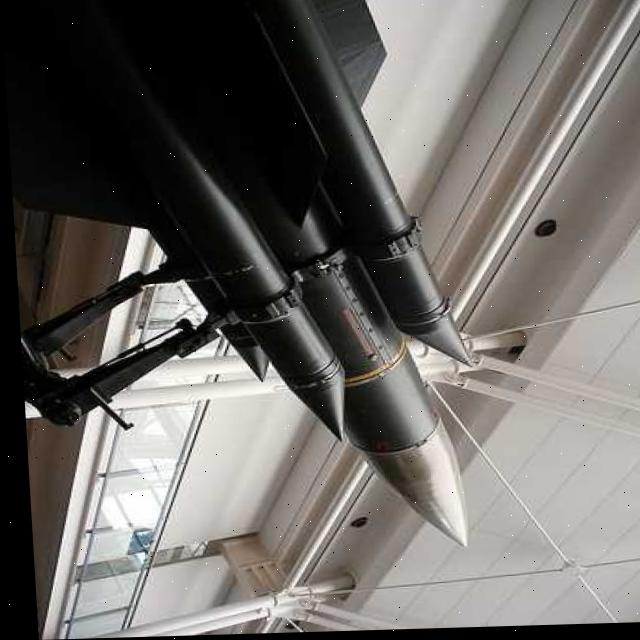missile: (0, 0, 479, 558)
